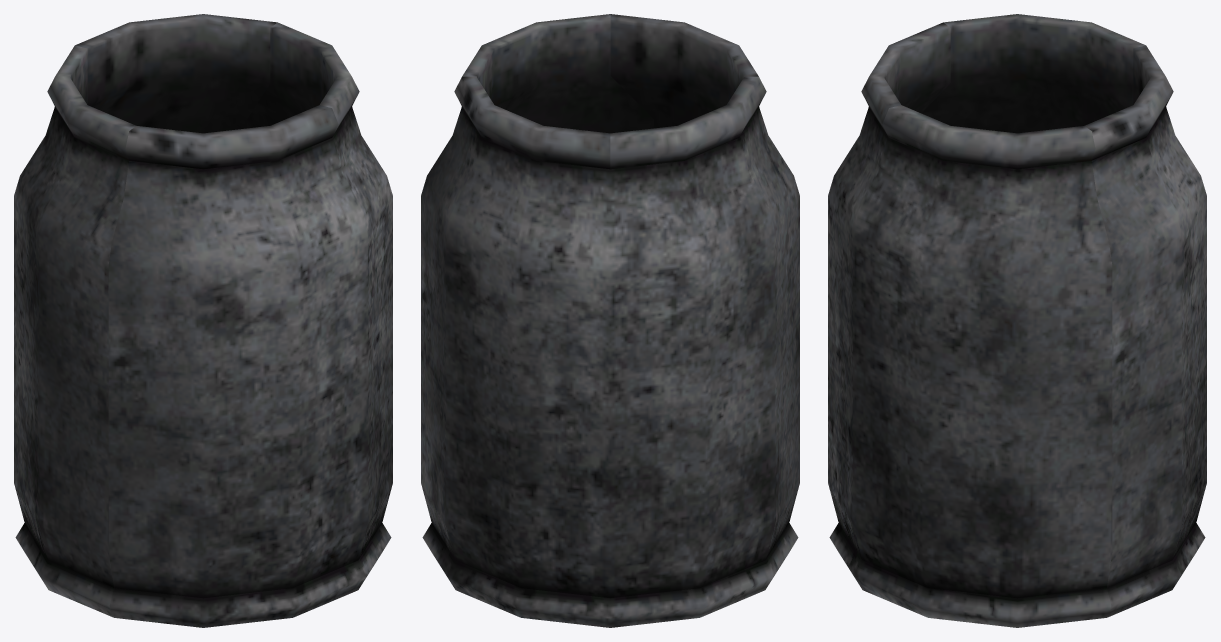
File: chemical_container.dae
3 renders of one model, left to right at view 1: azimuth 30°, elevation 25°; view 2: azimuth 150°, elevation 25°; view 3: azimuth 270°, elevation 25°, orthographic.
Visible parts, largest first — view 1: chemical_container; view 2: chemical_container; view 3: chemical_container.
Part boxes in pixels (<box>): chemical_container: <box>14,14,392,627</box>; chemical_container: <box>421,14,799,627</box>; chemical_container: <box>828,14,1206,627</box>.
Bounding box in the file's own units: 0.2166 × 0.3 × 0.2166.
